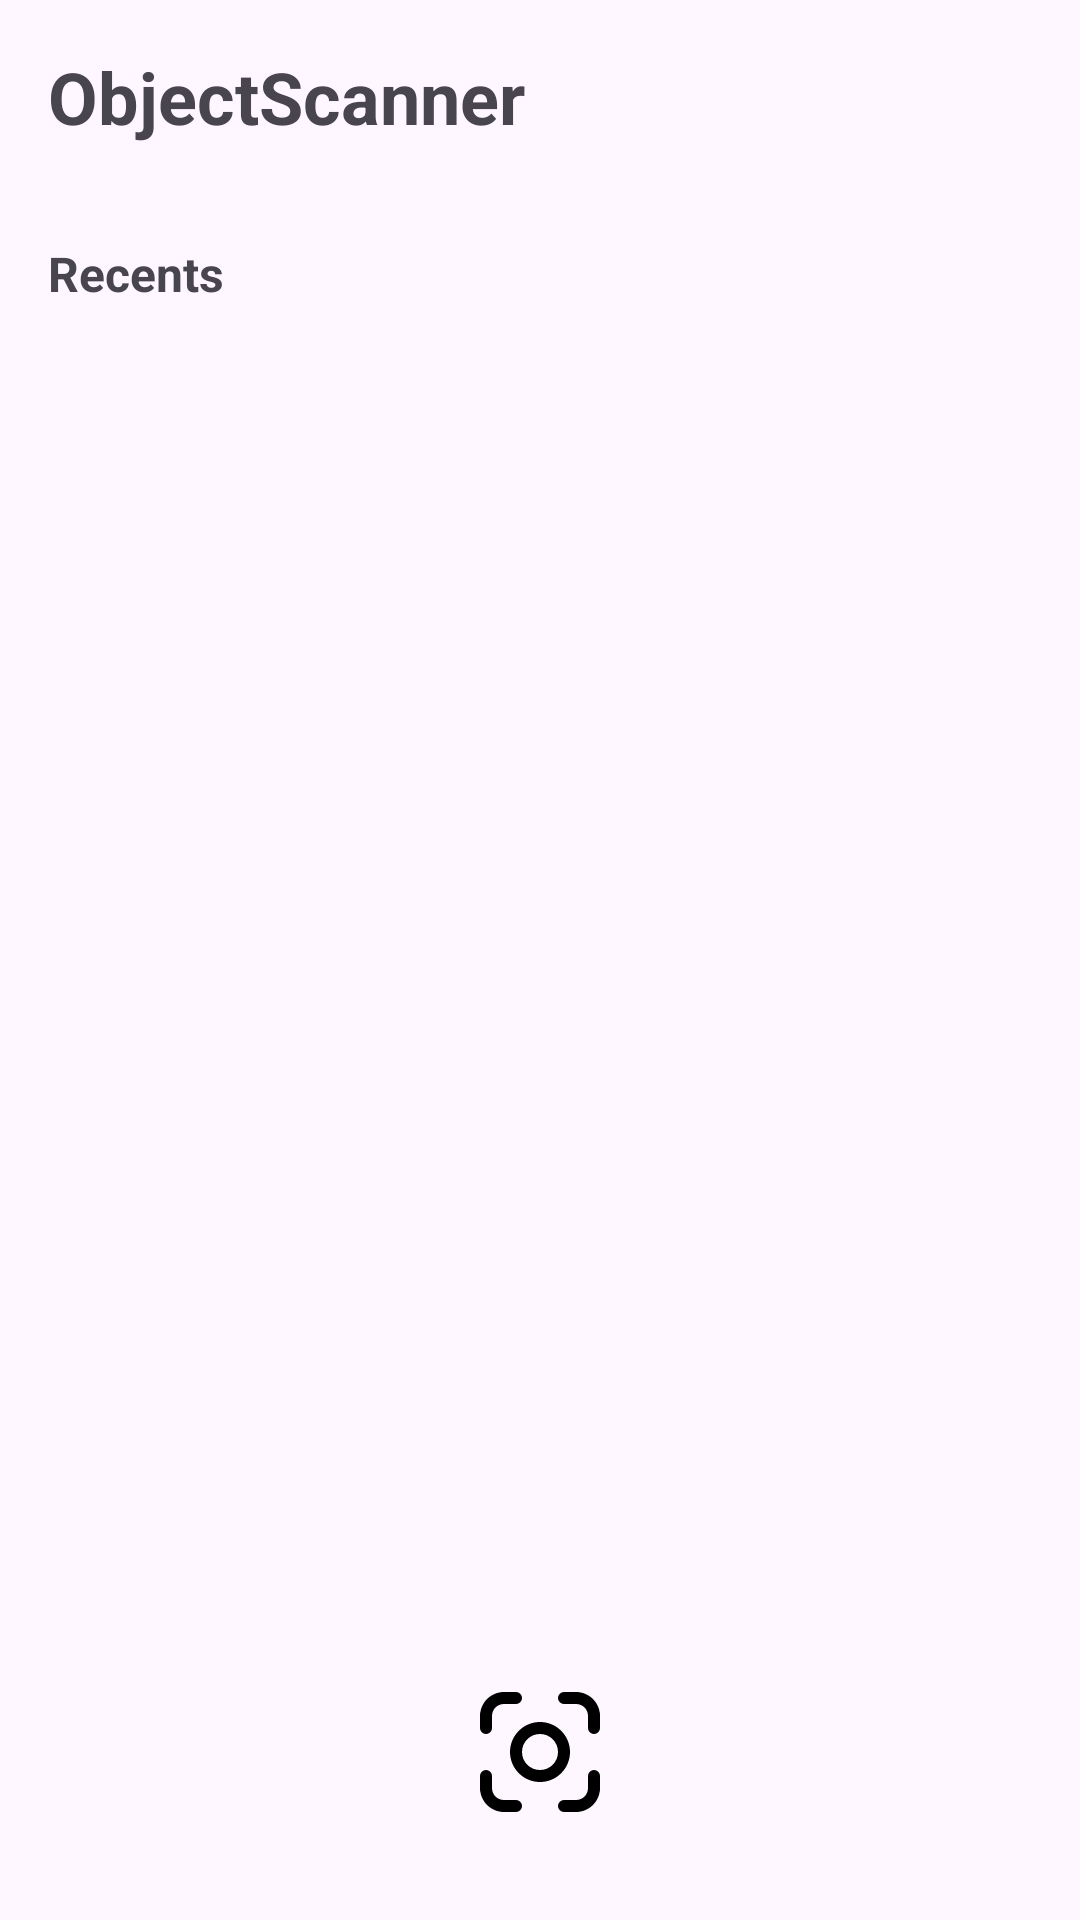

Icons on this 1080 × 1920 Android screen, each with its box as (x1, y1, x2, y2):
scan: (480, 1692, 600, 1812)
